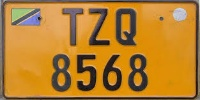T: (60, 6, 85, 49)
